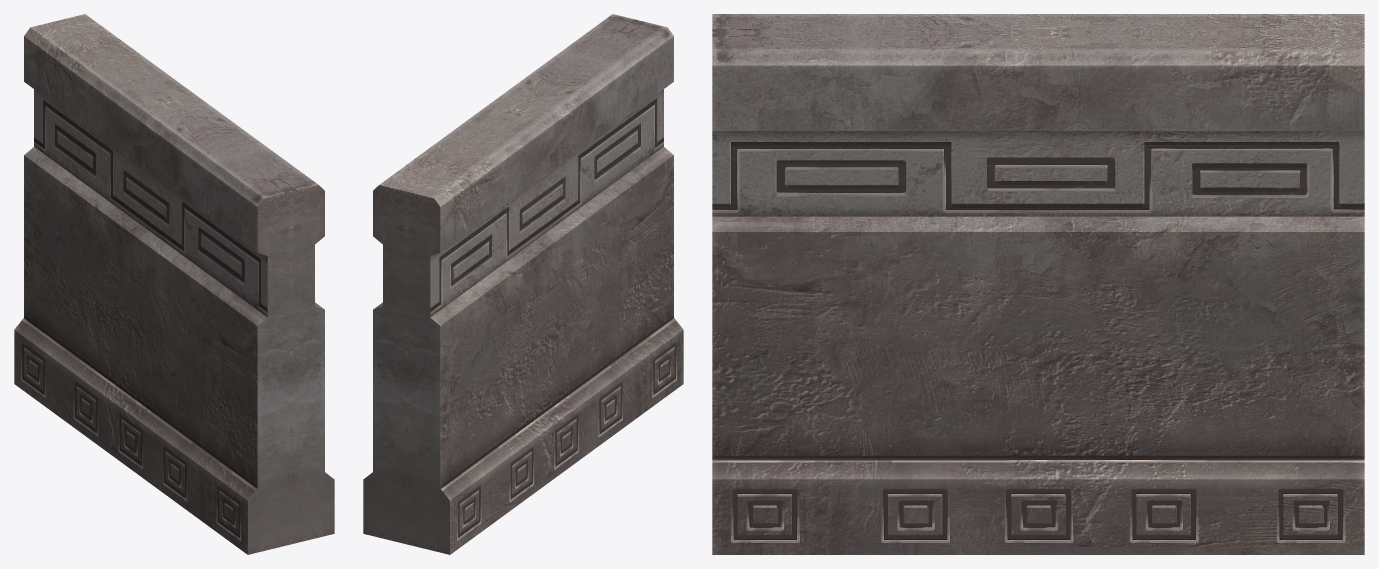
File: StoneWallStraight.fbx
3 views of the same model, side by side, from view 1: azimuth 30°, elevation 25°; view 2: azimuth 150°, elevation 25°; view 3: azimuth 270°, elevation 25° (orthographic). The views are drawn at different scales.
Parts seen in each view (by area): view 1: Wall_017; view 2: Wall_017; view 3: Wall_017.
Part boxes in pixels (x1=…): Wall_017: x1=14, y1=14, x2=334, y2=554; Wall_017: x1=363, y1=14, x2=683, y2=554; Wall_017: x1=712, y1=14, x2=1364, y2=554.
Bounding box in the file's own units: 42.42 × 165 × 198.
